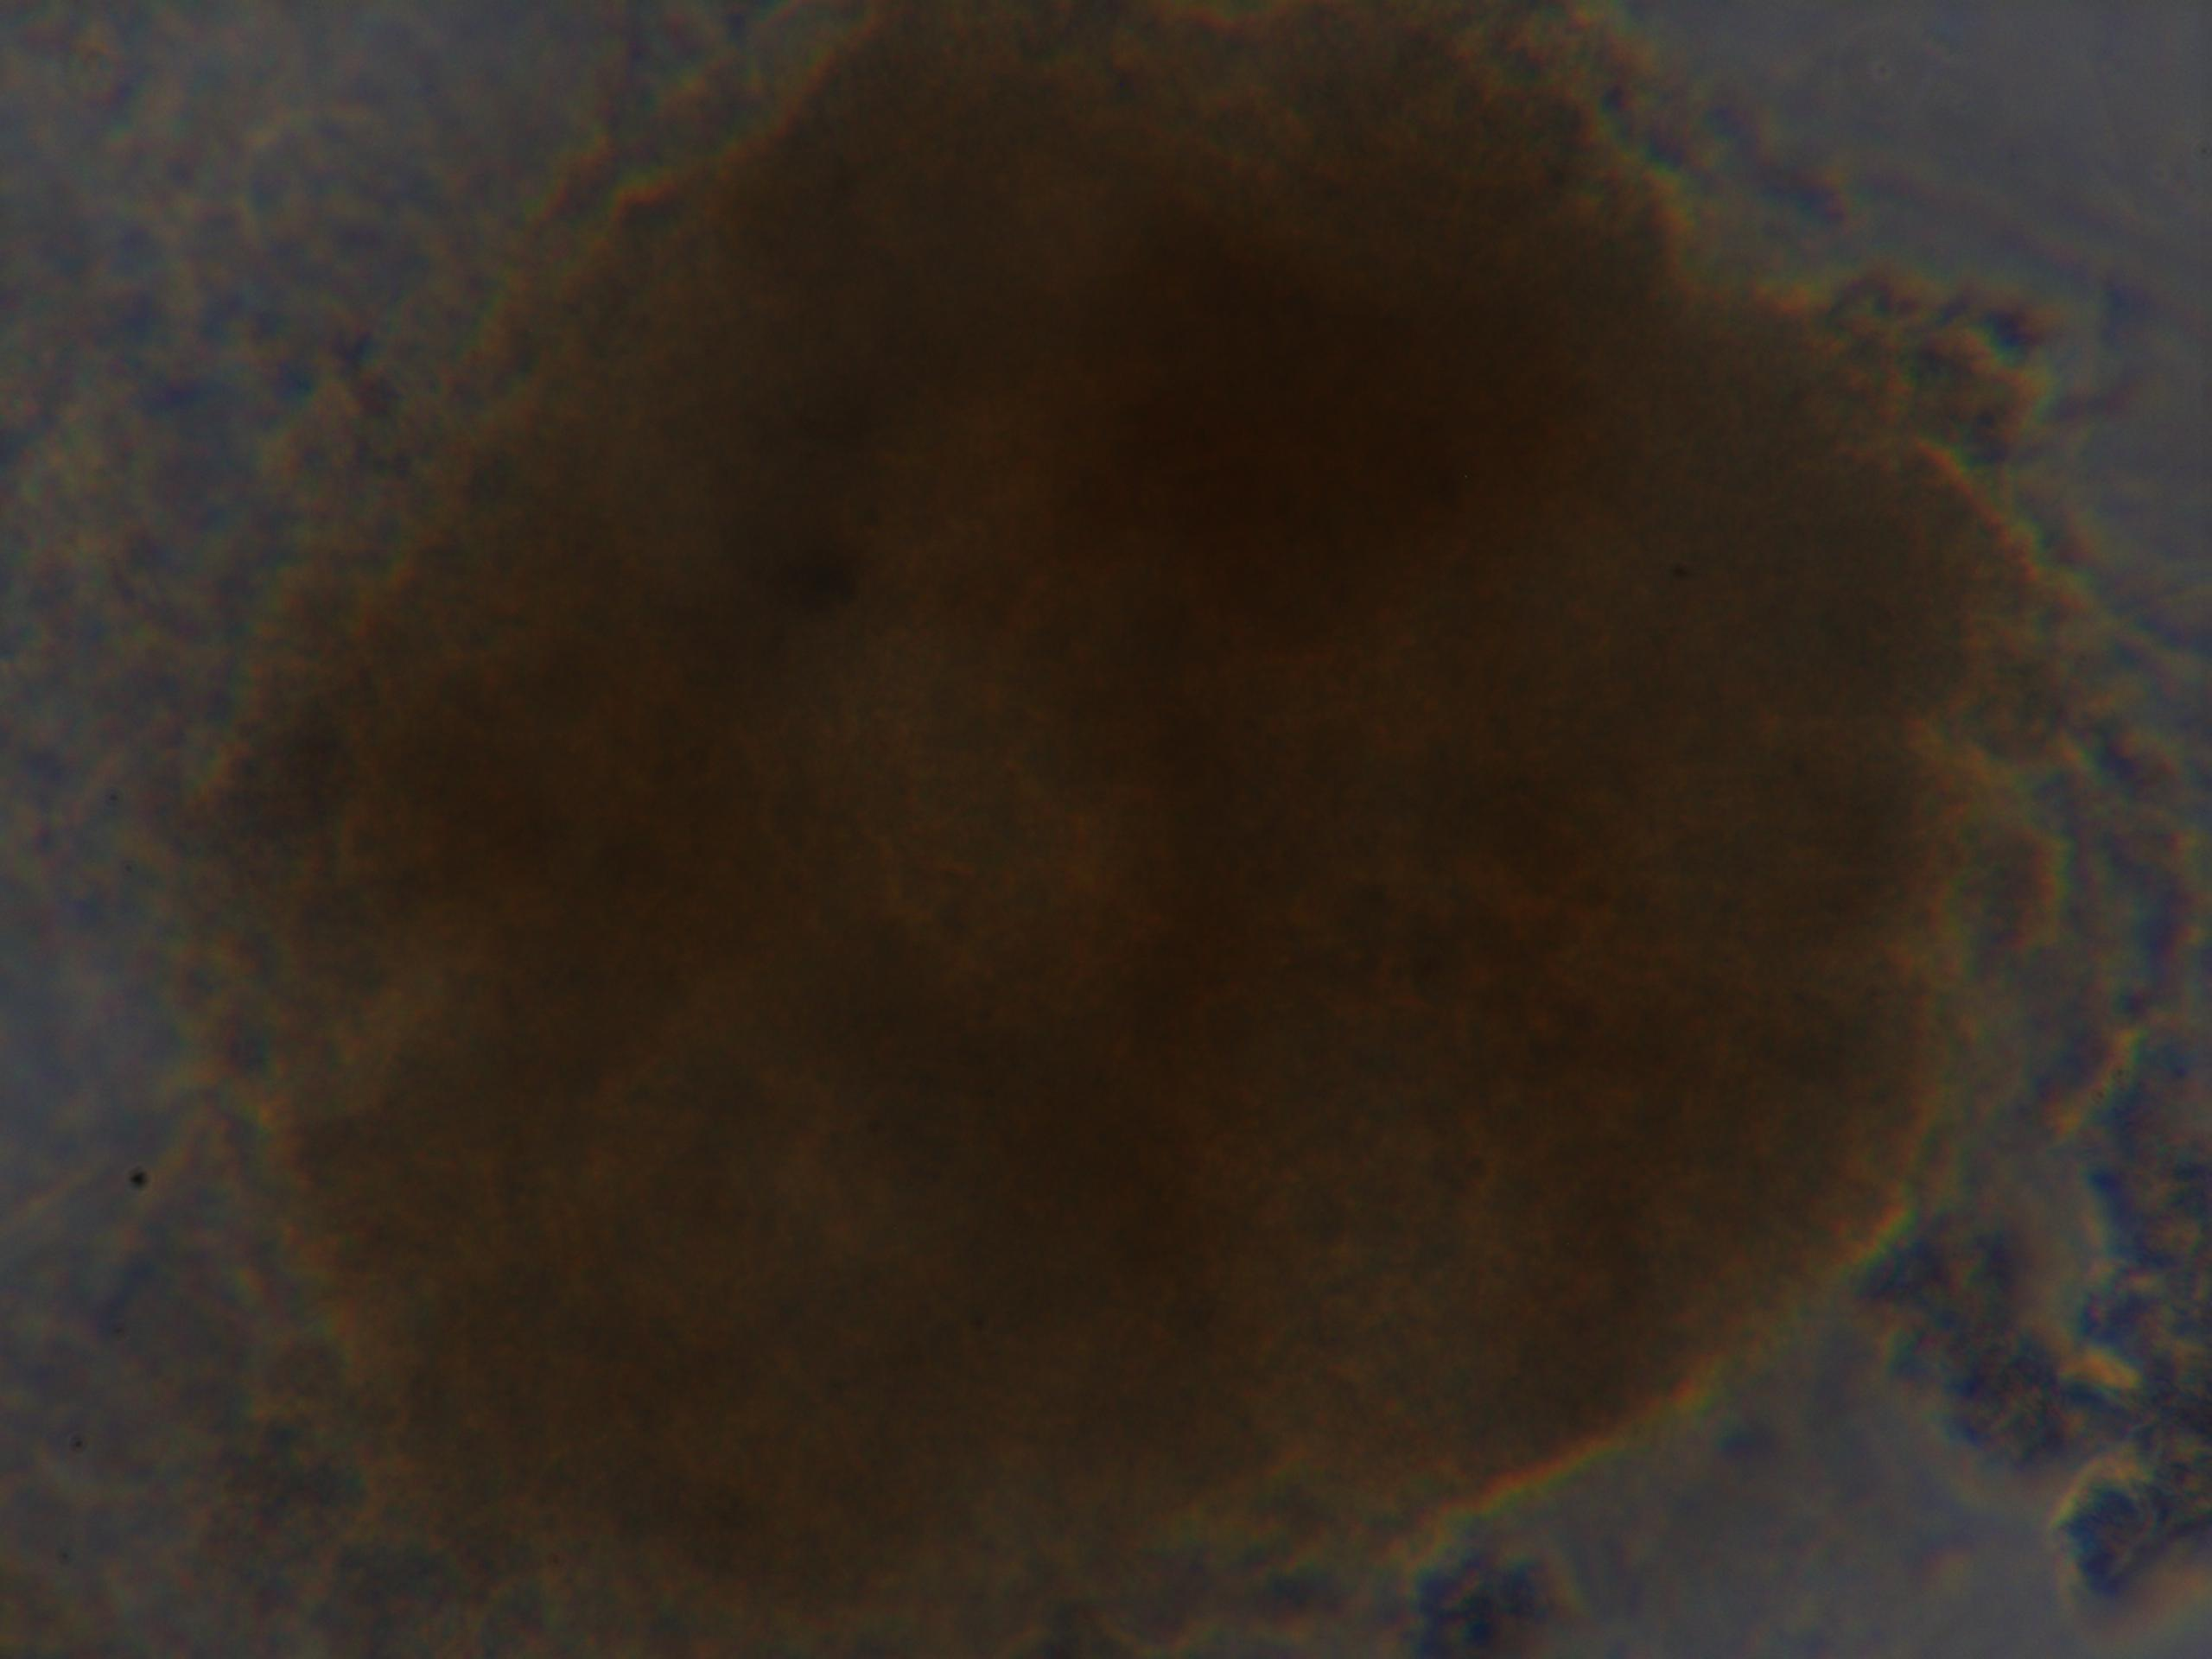spherical_floc: (174, 9, 2027, 1656)
